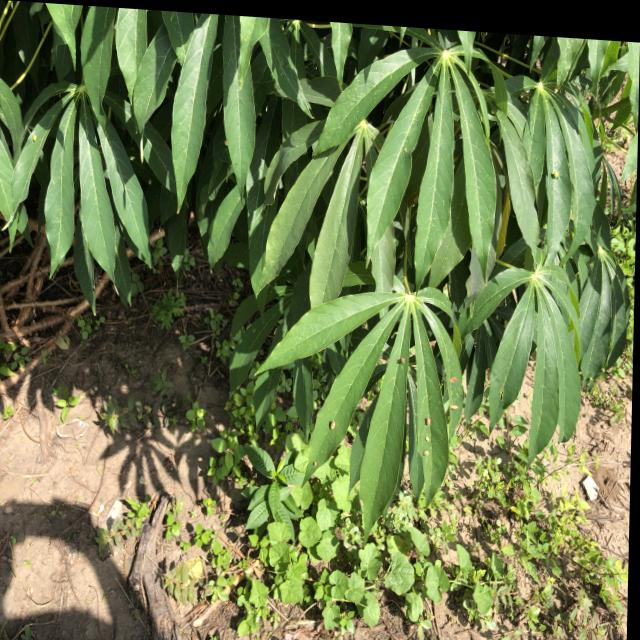Mosca: (538, 155, 574, 196), (416, 407, 433, 467), (445, 367, 465, 413), (322, 417, 349, 446), (387, 351, 418, 375), (27, 127, 45, 150), (301, 459, 318, 477)
